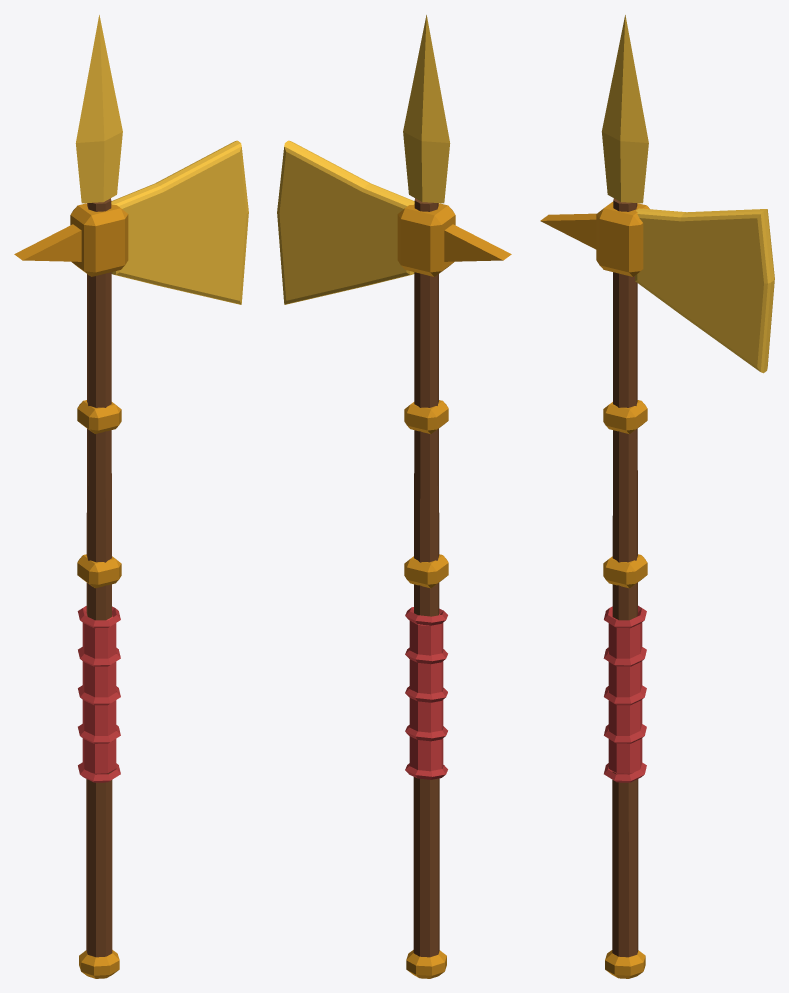
Rendered from GoldHalberd.fbx.
The picture shows the model from 3 angles, left to right: view 1: azimuth 30°, elevation 25°; view 2: azimuth 150°, elevation 25°; view 3: azimuth 330°, elevation 25°; orthographic projection.
Visible parts, largest first — view 1: GoldHalberd; view 2: GoldHalberd; view 3: GoldHalberd.
Boxes of the visible parts, <box> form: GoldHalberd: <box>14,15,248,978</box>; GoldHalberd: <box>277,15,511,978</box>; GoldHalberd: <box>540,15,774,978</box>.
Bounding box in the file's own units: 1.55 × 6.22 × 0.2614.
1 material, 1 textured.
